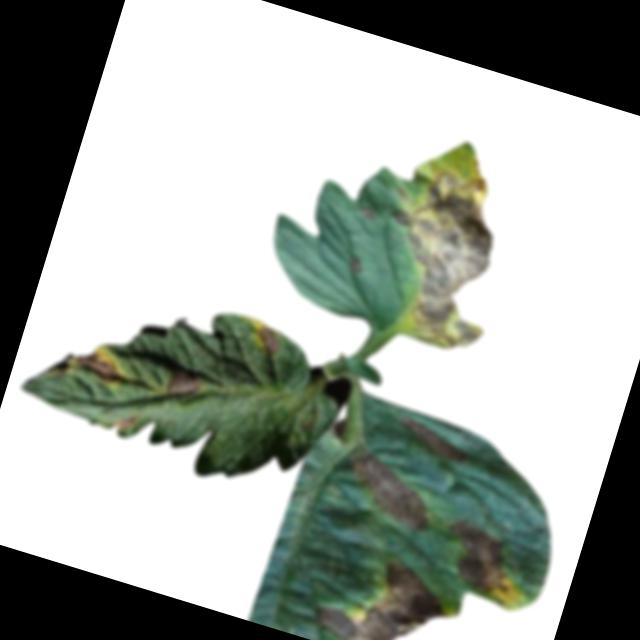Early_blight: (361, 156, 528, 358), (310, 545, 458, 640), (338, 447, 446, 538), (432, 517, 527, 606), (388, 412, 479, 471), (72, 341, 129, 390), (163, 369, 201, 405), (250, 324, 284, 359), (112, 406, 142, 438), (342, 253, 365, 277)
